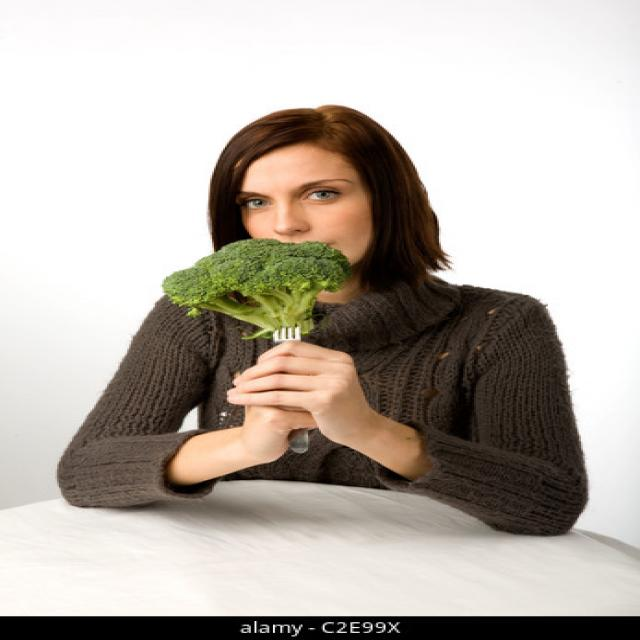broccoli: (159, 238, 354, 341)
